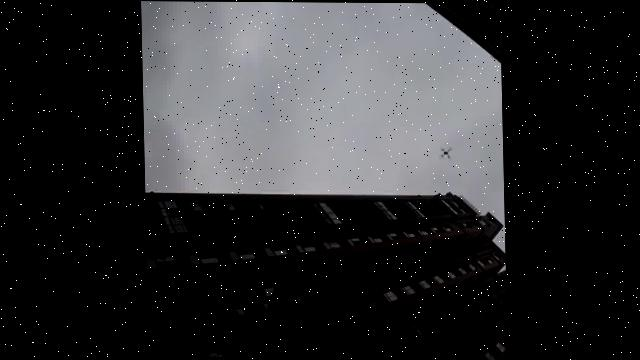drone: (437, 141, 456, 165)
